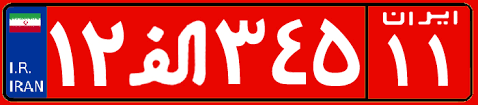character: (126, 16, 213, 92), (213, 15, 268, 93), (310, 14, 362, 93), (79, 16, 127, 91), (268, 13, 310, 89), (419, 28, 464, 92), (378, 28, 417, 91), (47, 16, 80, 90)
